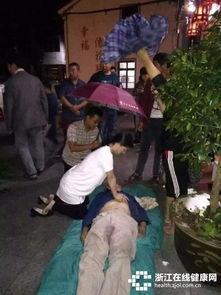Fall-Detected: (25, 173, 167, 294)
